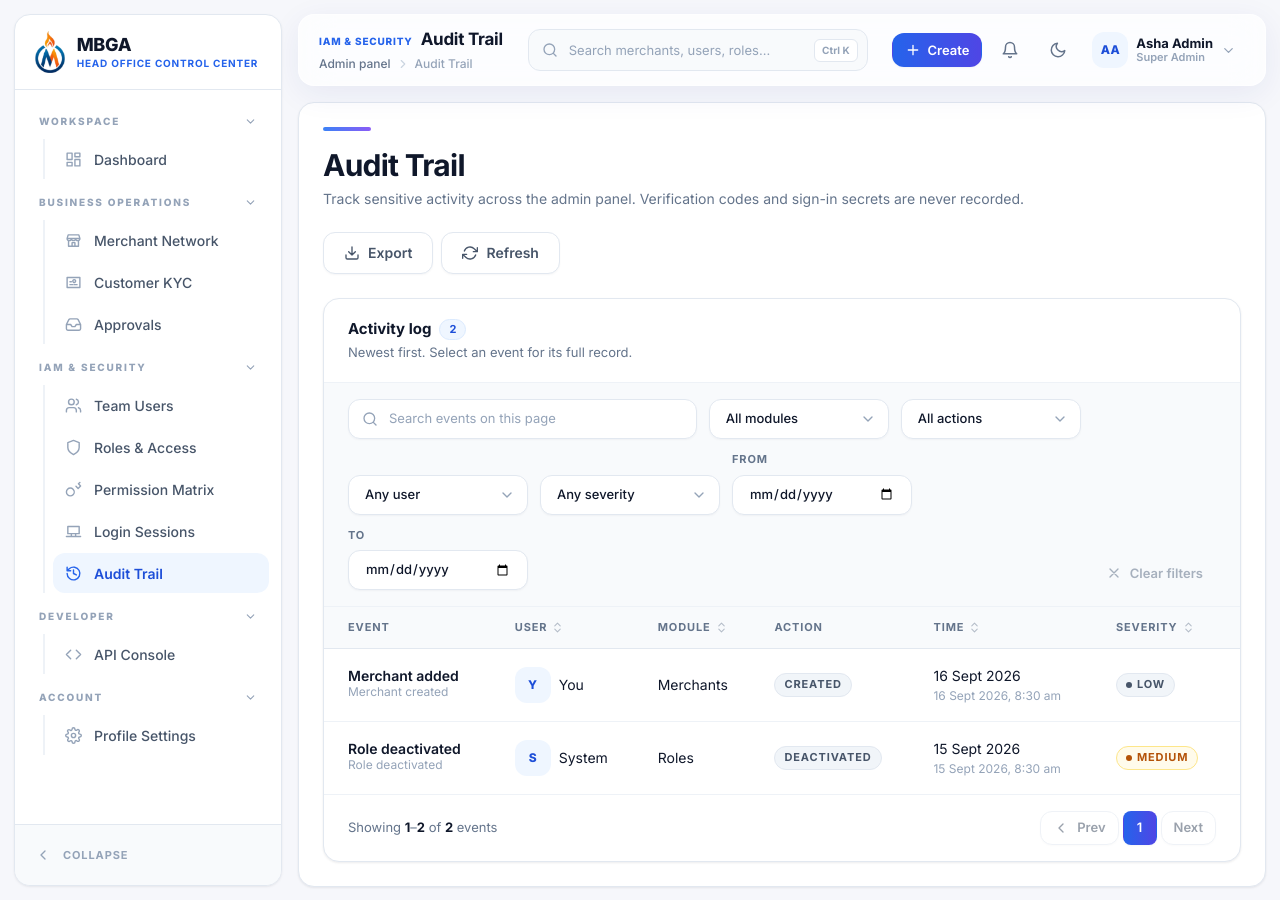
Audit logs page › opens the details drawer with a link to the affected record
Click the button "Merchant added" at (415, 676), box [348,668,483,682]
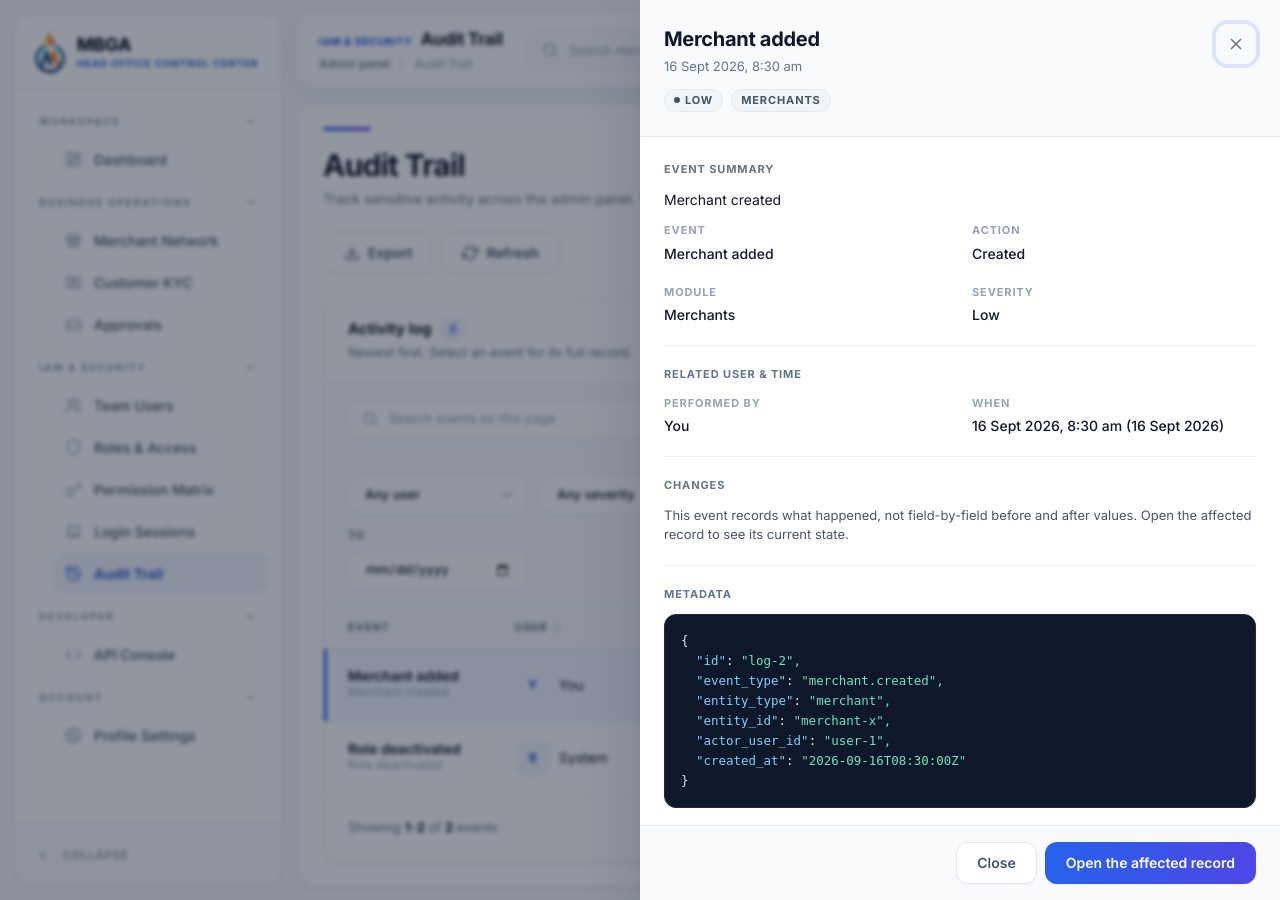
Press Escape
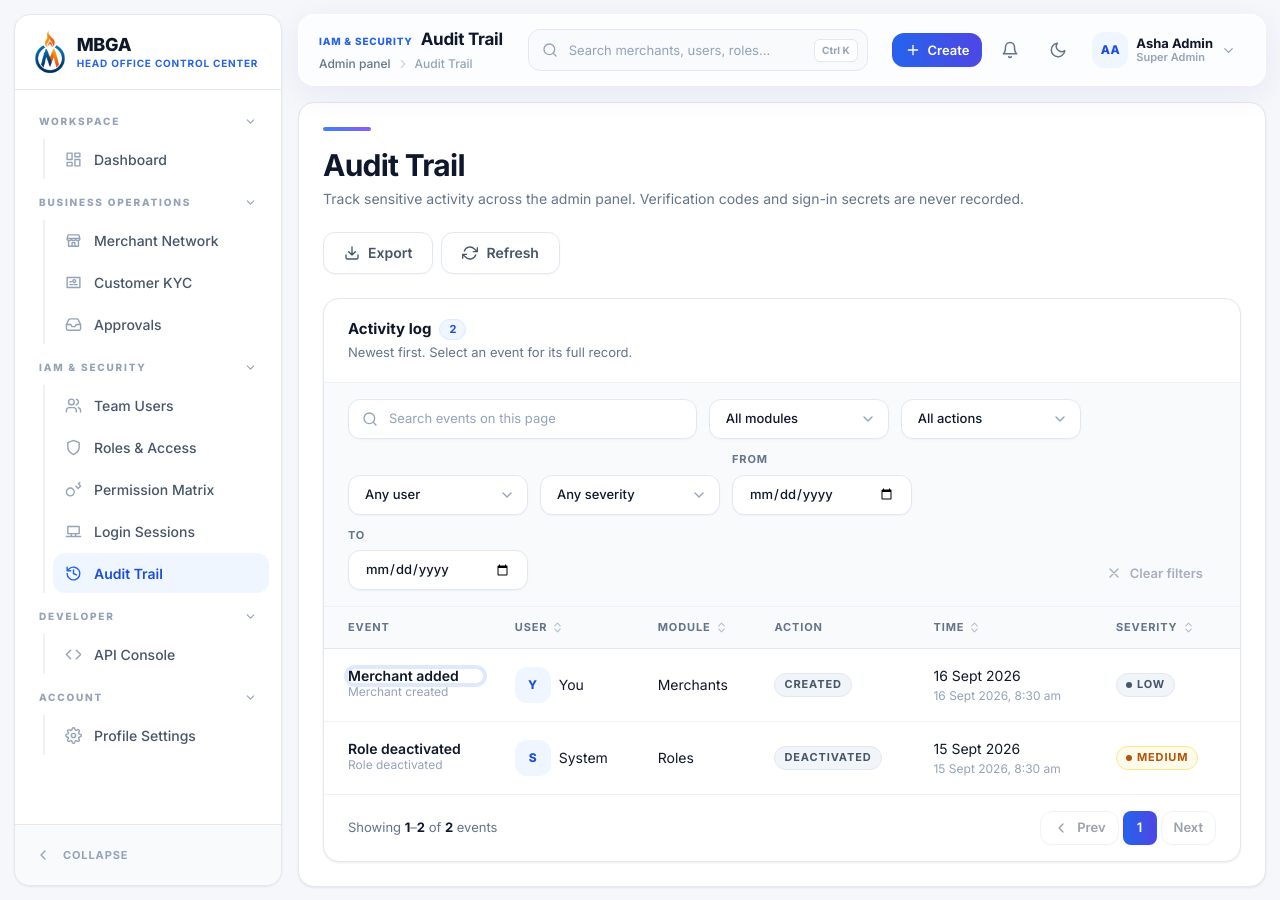
Check: the dialog is gone
